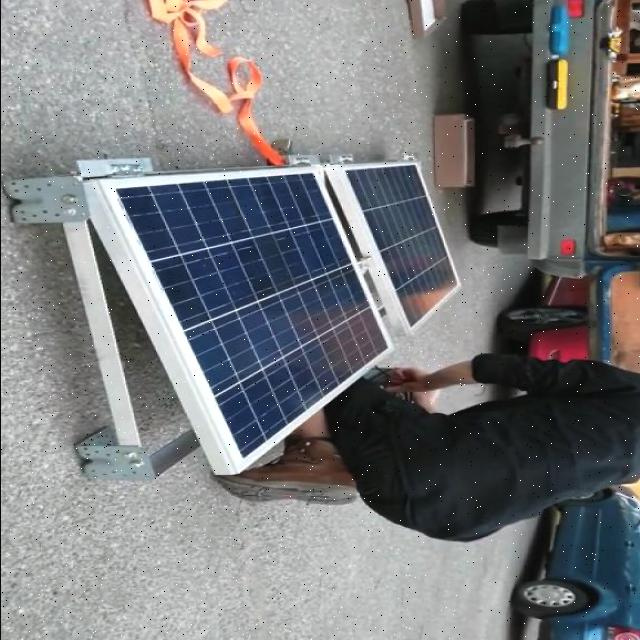Normal Solar Panel: (100, 170, 388, 472), (338, 162, 456, 334)
